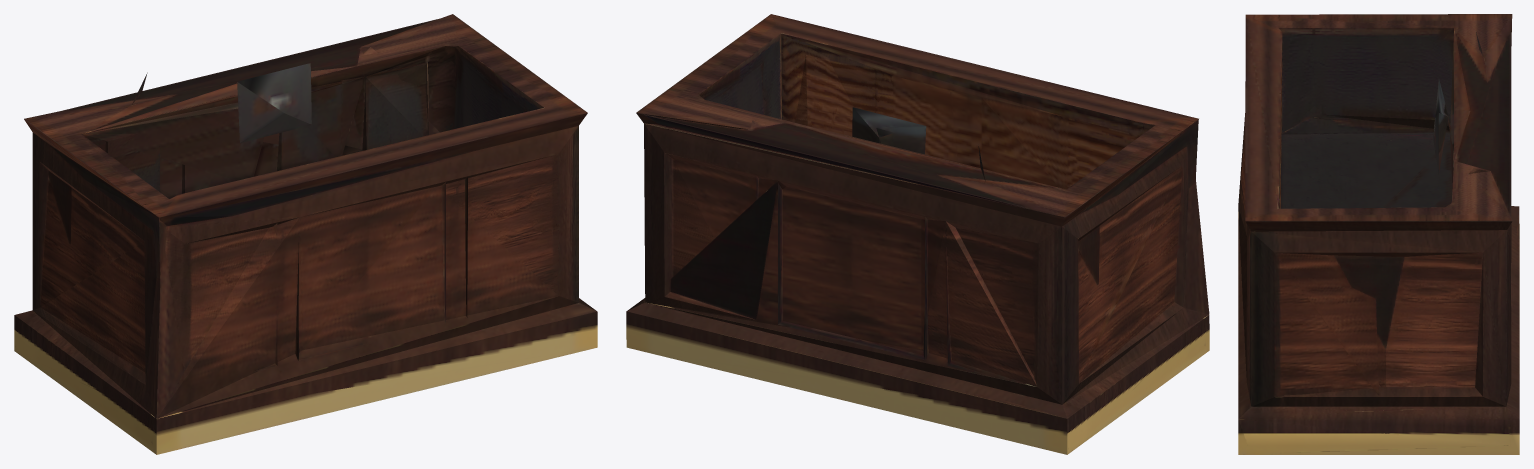
Rendered from PR_ReceptionCounter.fbx.
3 views of the same model, side by side, from view 1: azimuth 30°, elevation 25°; view 2: azimuth 150°, elevation 25°; view 3: azimuth 270°, elevation 25° (orthographic).
Visible parts, largest first — view 1: Mesh_0; view 2: Mesh_0; view 3: Mesh_0.
Part boxes in pixels (bbox=[...]): Mesh_0: bbox=[14, 14, 597, 454]; Mesh_0: bbox=[626, 14, 1209, 454]; Mesh_0: bbox=[1238, 14, 1519, 454].
Bounding box in the file's own units: 190 × 110 × 106.
Materials: 1 (1 with a texture image).
